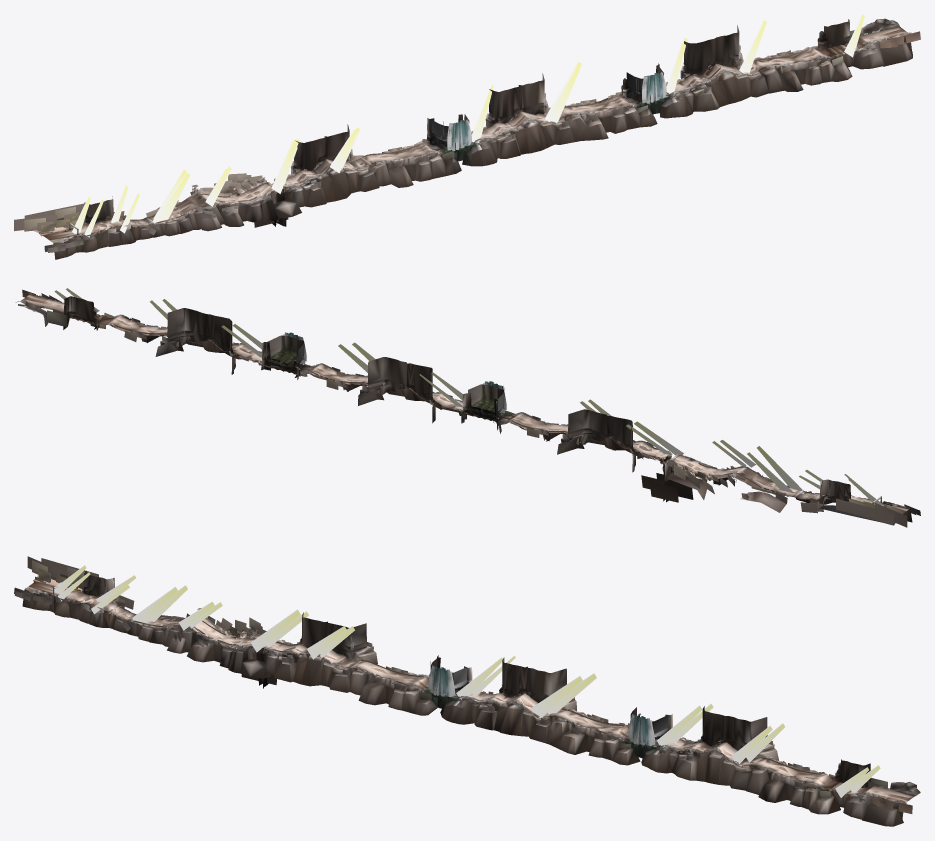
The model's file is Forest_01.fbx.
3 renders of one model, top to bottom at view 1: azimuth 30°, elevation 25°; view 2: azimuth 150°, elevation 25°; view 3: azimuth 330°, elevation 25°, orthographic. The views are drawn at different scales.
Parts seen in each view (by area): view 1: Mountain_01, Ground_03_V01, Llight_01_V01, Tree_01_A01, Tree_01_A02, Road_04, Water_01_A_V1, Water_01_A_V2, Mountain_02, Mountain_04, Leak_A, Mountain_02_V01; view 2: Mountain_01, Tree_01_A02, Ground_03_V01, Llight_01_V01, Mountain_03, Road_04, Tree_01_A01, Leak_A; view 3: Mountain_01, Llight_01_V01, Ground_03_V01, Tree_01_A01, Tree_01_A02, Road_04, Water_01_A_V1, Water_01_A_V2, Leak_A.
Boxes of the visible parts, <box> form: Mountain_01: <box>52,18,912,259</box>; Ground_03_V01: <box>33,26,906,241</box>; Llight_01_V01: <box>72,14,865,237</box>; Tree_01_A01: <box>44,31,920,252</box>; Tree_01_A02: <box>14,27,882,234</box>; Road_04: <box>45,29,904,239</box>; Water_01_A_V1: <box>447,119,471,150</box>; Water_01_A_V2: <box>642,72,666,103</box>; Mountain_02: <box>431,90,670,161</box>; Mountain_04: <box>431,92,676,166</box>; Leak_A: <box>156,49,809,222</box>; Mountain_02_V01: <box>431,72,663,141</box>; Mountain_01: <box>15,295,912,522</box>; Tree_01_A02: <box>34,305,907,527</box>; Ground_03_V01: <box>21,294,908,511</box>; Llight_01_V01: <box>54,288,881,504</box>; Mountain_03: <box>266,335,503,416</box>; Road_04: <box>23,297,905,513</box>; Tree_01_A01: <box>22,289,920,515</box>; Leak_A: <box>113,324,789,494</box>; Mountain_01: <box>22,570,920,826</box>; Llight_01_V01: <box>54,565,880,797</box>; Ground_03_V01: <box>27,574,914,802</box>; Tree_01_A01: <box>14,587,912,813</box>; Tree_01_A02: <box>27,556,900,790</box>; Road_04: <box>29,583,911,800</box>; Water_01_A_V1: <box>428,665,455,696</box>; Water_01_A_V2: <box>628,714,654,745</box>; Leak_A: <box>134,618,821,774</box>.
Size of the model in its own units: 79298 by 6933 by 5423.
